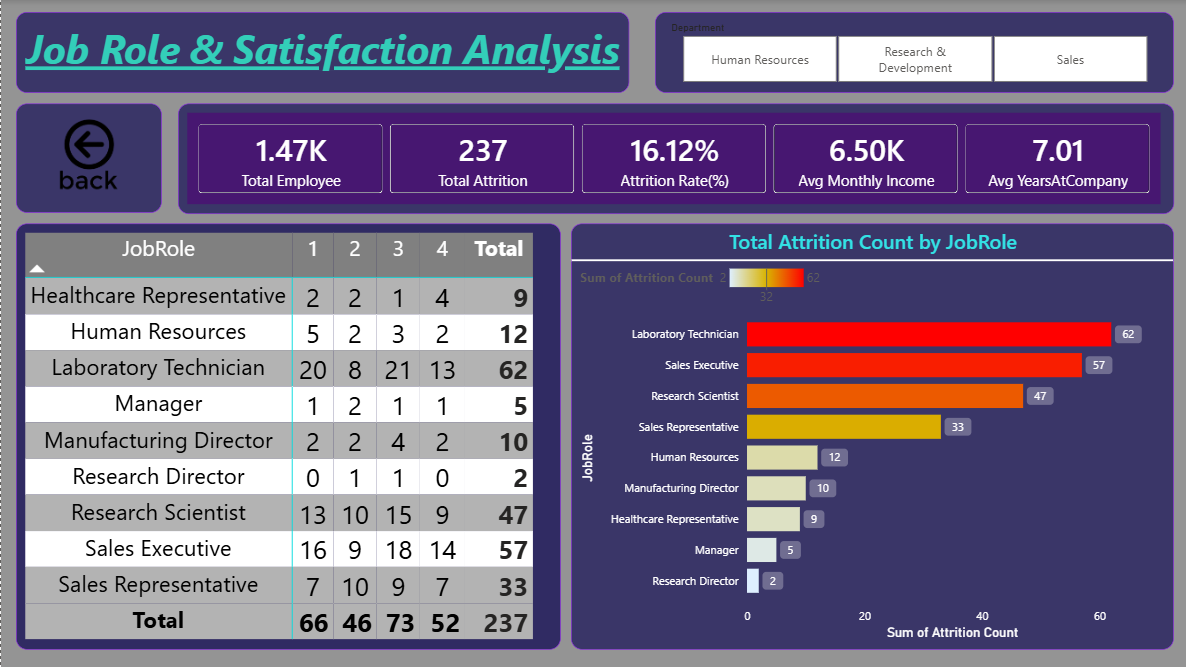

What the dashboard file says about the page in this screenshot:
{"tool":"powerbi","page":{"name":"Job Role & Satisfaction Analysis","canvas":[1280,720],"ordinal":1},"visuals":[{"type":"pivotTable","fields":{"Rows":["HR_Analytics.JobRole"],"Columns":["HR_Analytics.JobSatisfaction"],"Values":["Sum(HR_Analytics.Attrition Count)"]},"box":[16.2,241.3,587.8,459.9],"z":0},{"type":"barChart","title":"Total  Attrition Count by JobRole","fields":{"Y":["Sum(HR_Analytics.Attrition Count)"],"Category":["HR_Analytics.JobRole"]},"box":[615.3,241.3,650.9,459.9],"z":1000},{"type":"slicer","fields":{"Values":["HR_Analytics.Department"]},"box":[706.2,12.7,559.9,87.5],"z":2000},{"type":"textbox","box":[16.2,13,662.3,87.4],"z":3000},{"type":"image","box":[16.2,111.7,157.1,118.2],"z":4000},{"type":"cardVisual","fields":{"Data":["CountNonNull(HR_Analytics.EmployeeNumber)","Sum(HR_Analytics.Attrition Count)","HR_Analytics.Attrition Rate(%)","Avg(HR_Analytics.MonthlyIncome)","Avg(HR_Analytics.YearsAtCompany)"]},"box":[191.1,111,1075.2,119],"z":5000}]}

Visuals, with their boxes in screenshot pixels (x1, y1, x2, y2), scaled from the page's 1280x720 canvas onto the 1186x667 screenshot:
pivotTable - HR_Analytics.JobRole x HR_Analytics.JobSatisfaction: region(15, 224, 560, 650)
"Total  Attrition Count by JobRole" barChart: region(570, 224, 1173, 650)
slicer - HR_Analytics.Department: region(654, 12, 1173, 93)
textbox: region(15, 12, 629, 93)
image: region(15, 103, 161, 213)
cardVisual - CountNonNull(HR_Analytics.EmployeeNumber) x Sum(HR_Analytics.Attrition Count): region(177, 103, 1173, 213)
